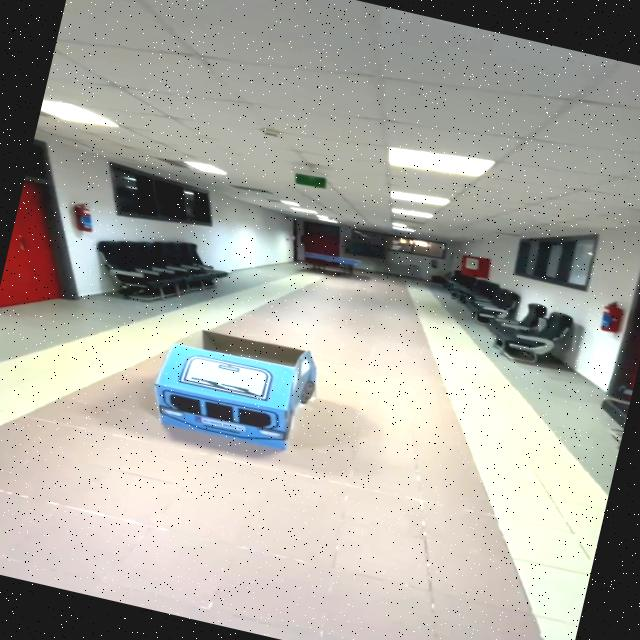blue_car: (133, 279, 363, 503)
